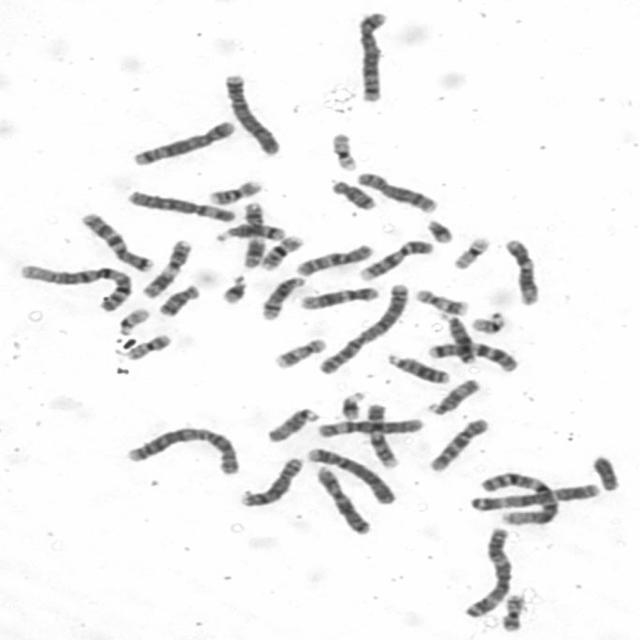A1: (15, 260, 135, 314), (474, 469, 558, 526)
A2: (315, 280, 412, 376), (122, 423, 243, 476)
A3: (460, 524, 514, 618), (463, 480, 602, 512)
B4: (305, 444, 397, 506), (220, 70, 283, 156)
B5: (130, 118, 238, 168), (352, 9, 390, 103)
C10: (425, 416, 491, 474), (292, 241, 376, 278)
C11: (138, 236, 194, 299), (240, 201, 266, 269)
C12: (502, 236, 541, 306), (295, 284, 381, 312)
C6: (124, 187, 236, 223), (313, 415, 424, 438)
C7: (79, 210, 154, 273), (424, 339, 520, 372)
C8: (353, 168, 438, 214), (236, 455, 306, 509)
C9: (355, 237, 434, 282), (361, 403, 402, 469)
D13: (384, 352, 451, 385), (439, 311, 478, 365)
D14: (257, 274, 306, 322), (213, 222, 287, 244)
D15: (425, 376, 482, 416), (262, 405, 320, 444)
E16: (257, 233, 306, 271), (204, 177, 264, 205)
E17: (271, 335, 328, 370), (412, 286, 470, 316)
E18: (327, 176, 377, 211), (155, 282, 200, 317)
F19: (448, 234, 492, 270), (328, 130, 360, 173)
F20: (122, 331, 173, 361), (498, 592, 527, 633)
G21: (218, 272, 250, 305), (337, 388, 367, 421), (423, 217, 455, 244)
G22: (114, 306, 151, 335), (468, 311, 507, 335)
X: (313, 462, 373, 536)
Y: (590, 452, 622, 492)
